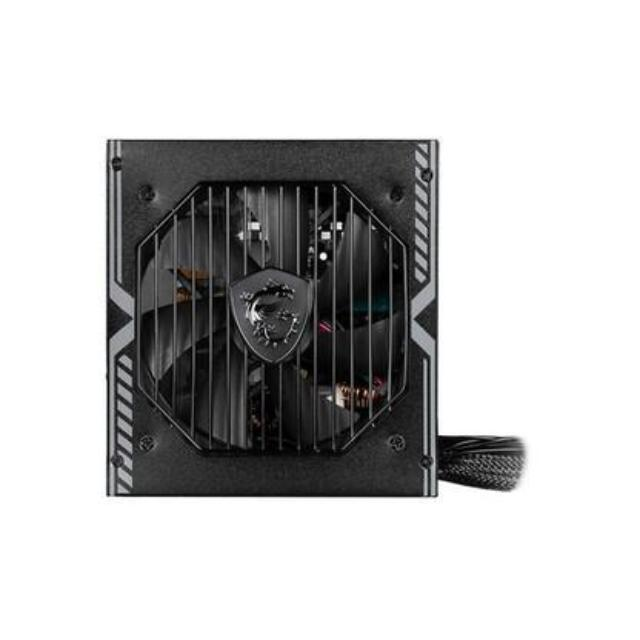PSU: (98, 135, 450, 510)
